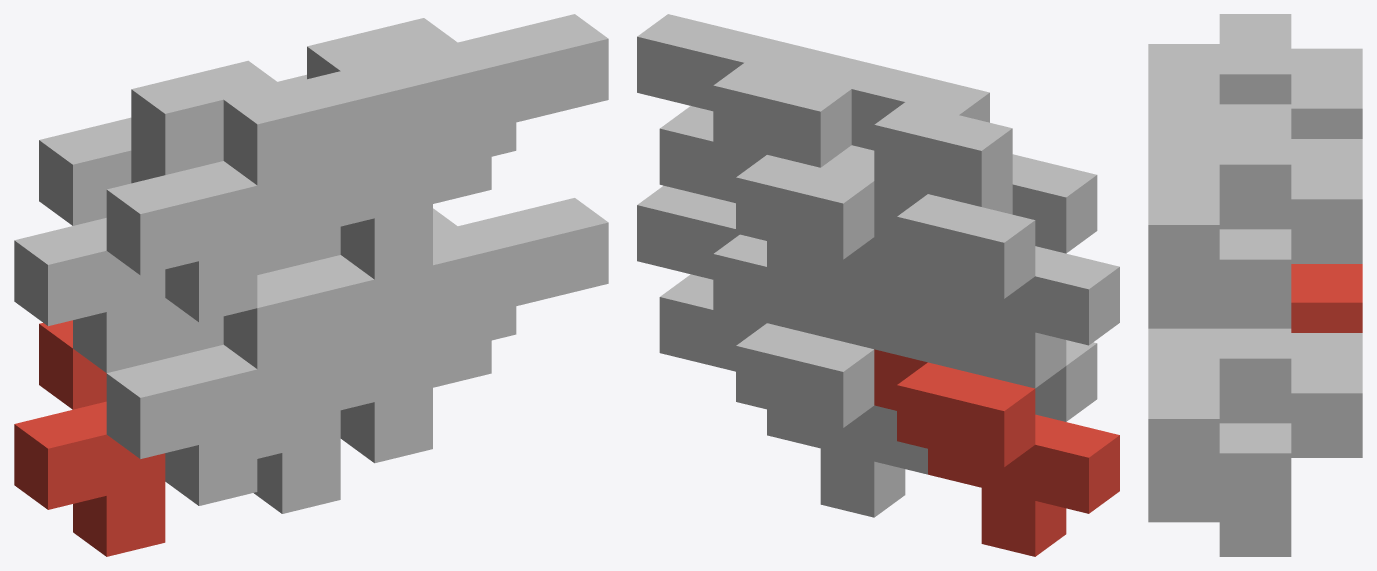
File: tiling.obj
3 renders of one model, left to right at view 1: azimuth 30°, elevation 25°; view 2: azimuth 150°, elevation 25°; view 3: azimuth 270°, elevation 25°, orthographic. The views are drawn at different scales.
Visible parts, largest first — view 1: copy_1_domain_4, copy_1_domain_2, copy_1_domain_8, copy_1_domain_6, copy_1_domain_3, copy_1_domain_1, copy_1_domain_5, copy_1_domain_7; view 2: copy_1_domain_3, copy_1_domain_1, copy_1_domain_5, copy_1_domain_7, copy_1_domain_4, copy_1_domain_8, copy_1_domain_6, copy_1_domain_2; view 3: copy_1_domain_8, copy_1_domain_6, copy_1_domain_5, copy_1_domain_7, copy_1_domain_4, copy_1_domain_3, copy_1_domain_1.
Part boxes in pixels (left/top/right/bottom): copy_1_domain_4: left=106, top=57, right=432, bottom=322; copy_1_domain_2: left=106, top=255, right=432, bottom=505; copy_1_domain_8: left=307, top=14, right=608, bottom=279; copy_1_domain_6: left=316, top=198, right=608, bottom=463; copy_1_domain_3: left=14, top=117, right=165, bottom=372; copy_1_domain_1: left=14, top=320, right=165, bottom=556; copy_1_domain_5: left=254, top=306, right=516, bottom=513; copy_1_domain_7: left=257, top=74, right=516, bottom=274; copy_1_domain_3: left=821, top=145, right=1119, bottom=388; copy_1_domain_1: left=874, top=349, right=1119, bottom=556; copy_1_domain_5: left=659, top=274, right=927, bottom=517; copy_1_domain_7: left=659, top=106, right=927, bottom=348; copy_1_domain_4: left=798, top=53, right=1097, bottom=253; copy_1_domain_8: left=637, top=14, right=851, bottom=167; copy_1_domain_6: left=637, top=185, right=820, bottom=335; copy_1_domain_2: left=874, top=293, right=1097, bottom=421; copy_1_domain_8: left=1148, top=104, right=1291, bottom=328; copy_1_domain_6: left=1148, top=328, right=1291, bottom=522; copy_1_domain_5: left=1219, top=333, right=1362, bottom=556; copy_1_domain_7: left=1219, top=139, right=1362, bottom=328; copy_1_domain_4: left=1148, top=14, right=1291, bottom=134; copy_1_domain_3: left=1291, top=48, right=1362, bottom=138; copy_1_domain_1: left=1291, top=264, right=1362, bottom=332.
Bounding box in the file's own units: 9 × 7 × 3.
